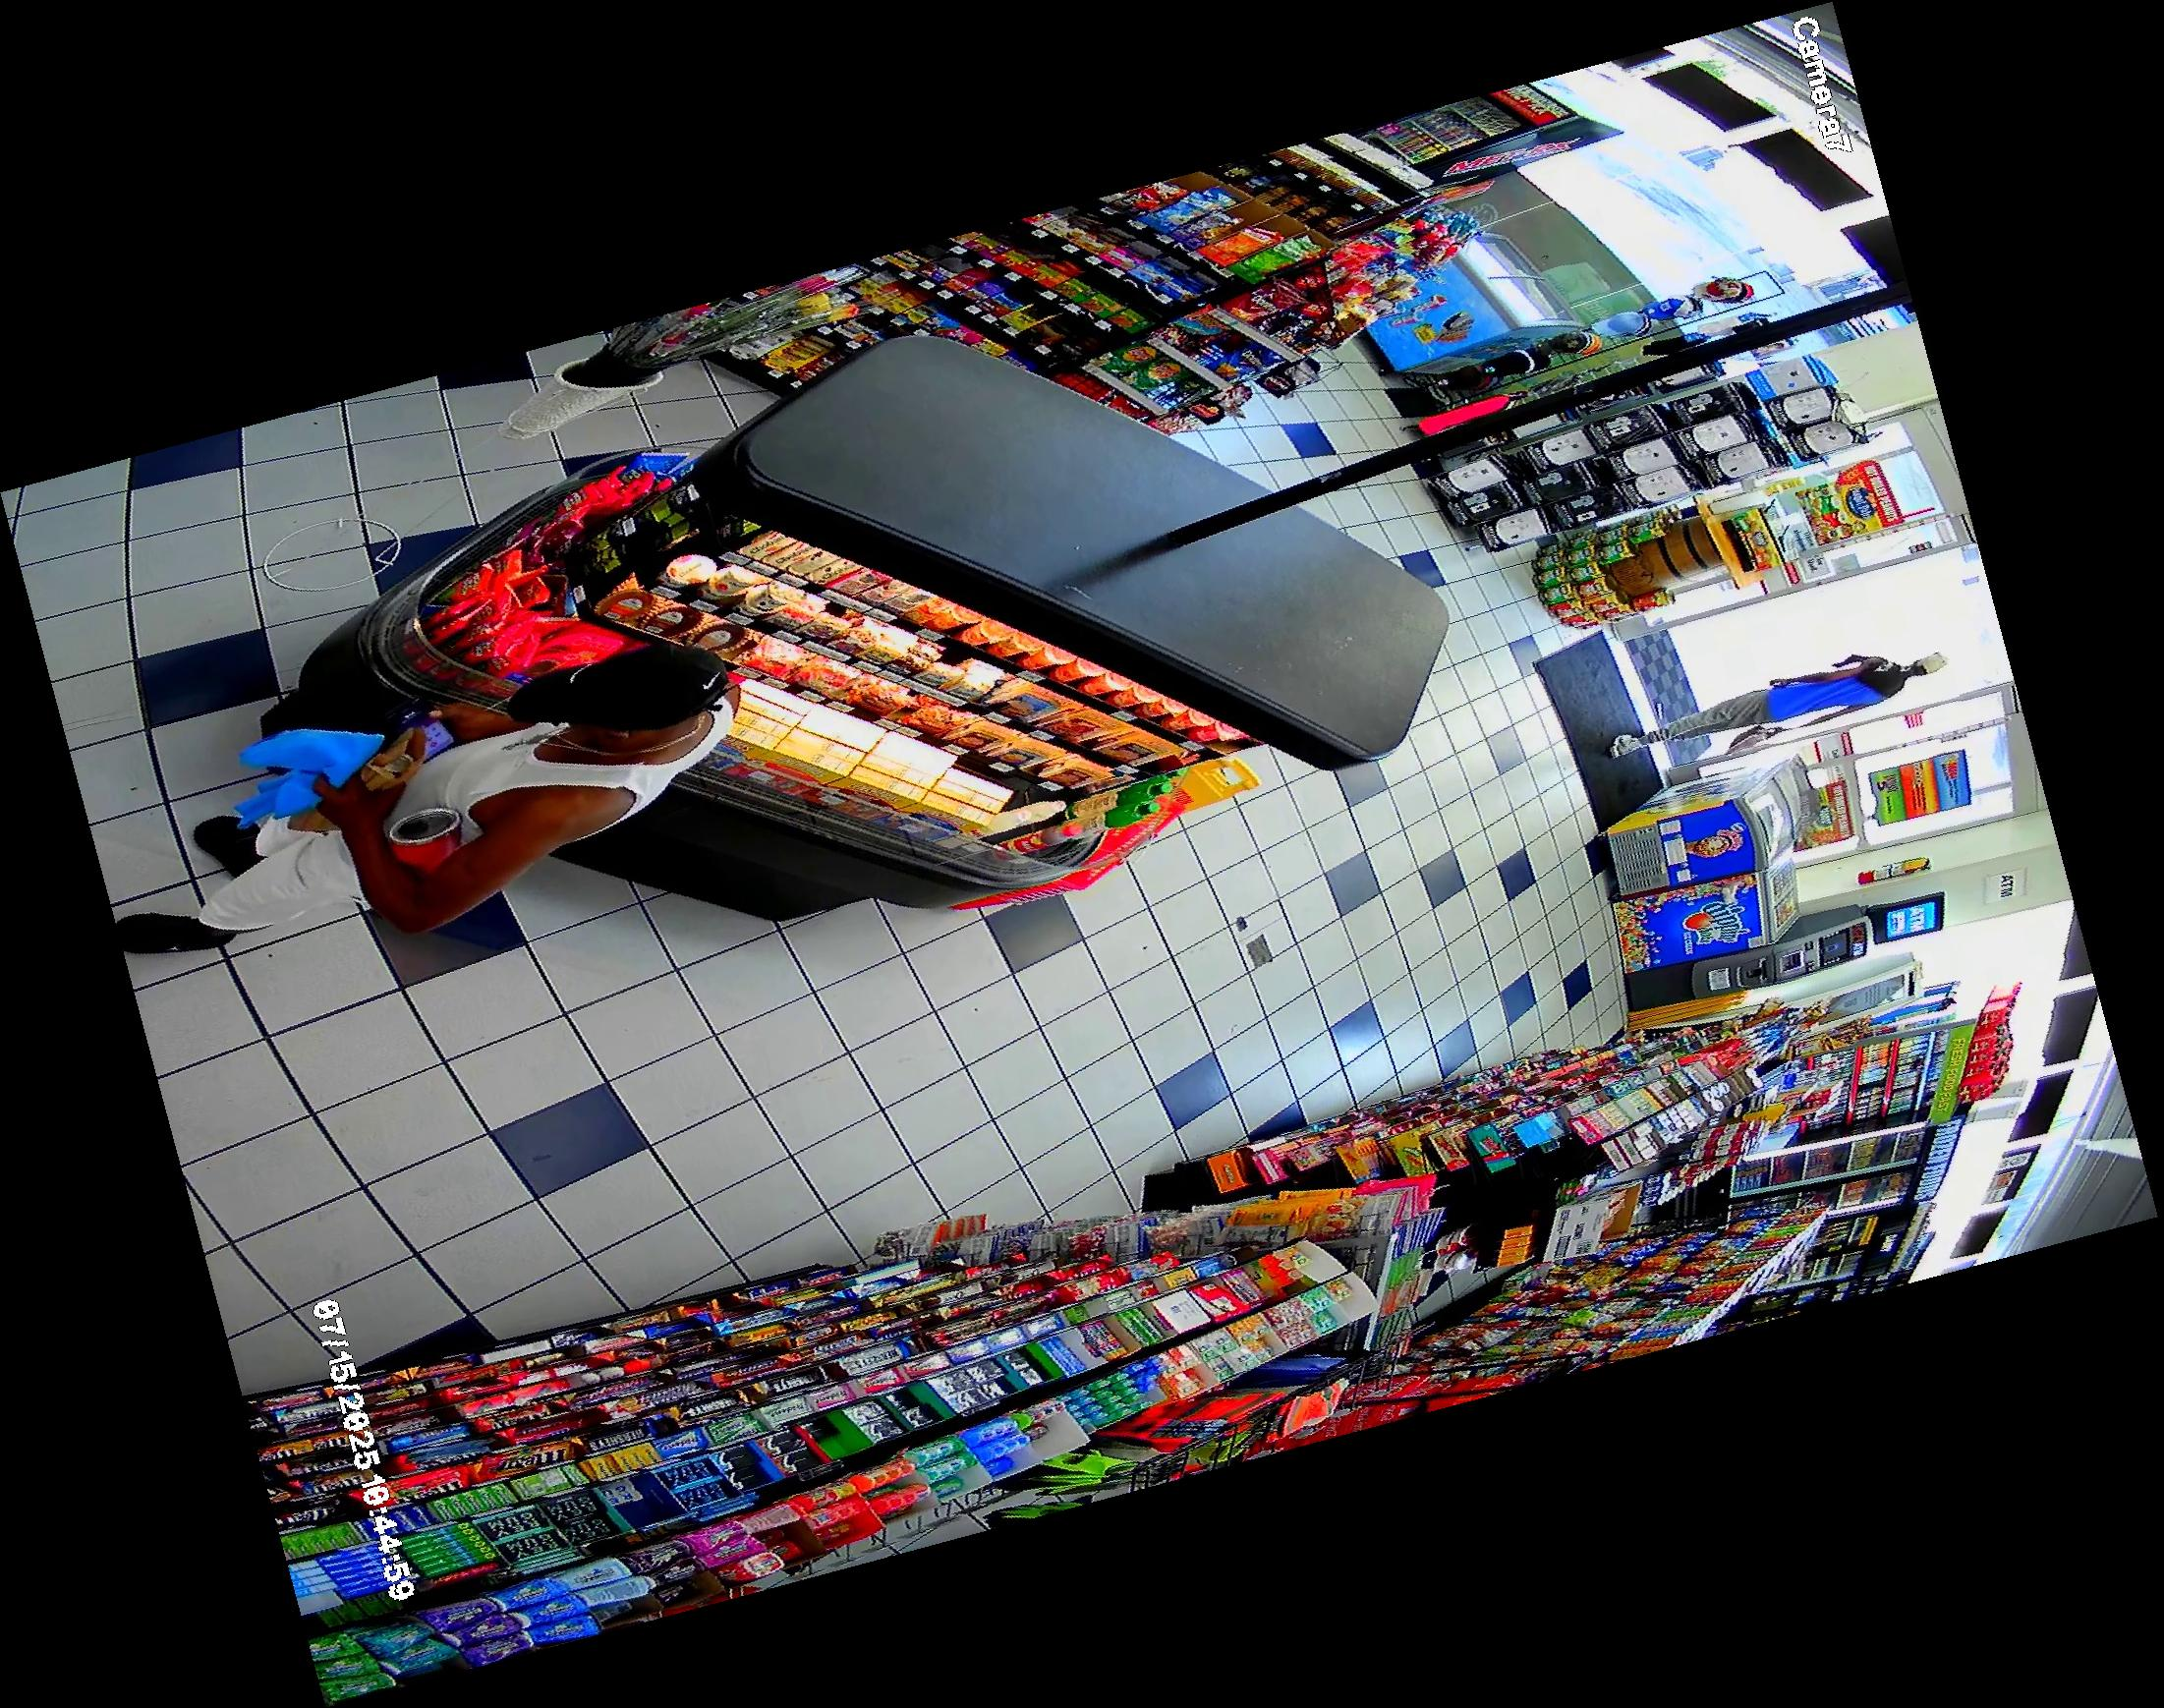phone: (395, 710, 464, 766)
